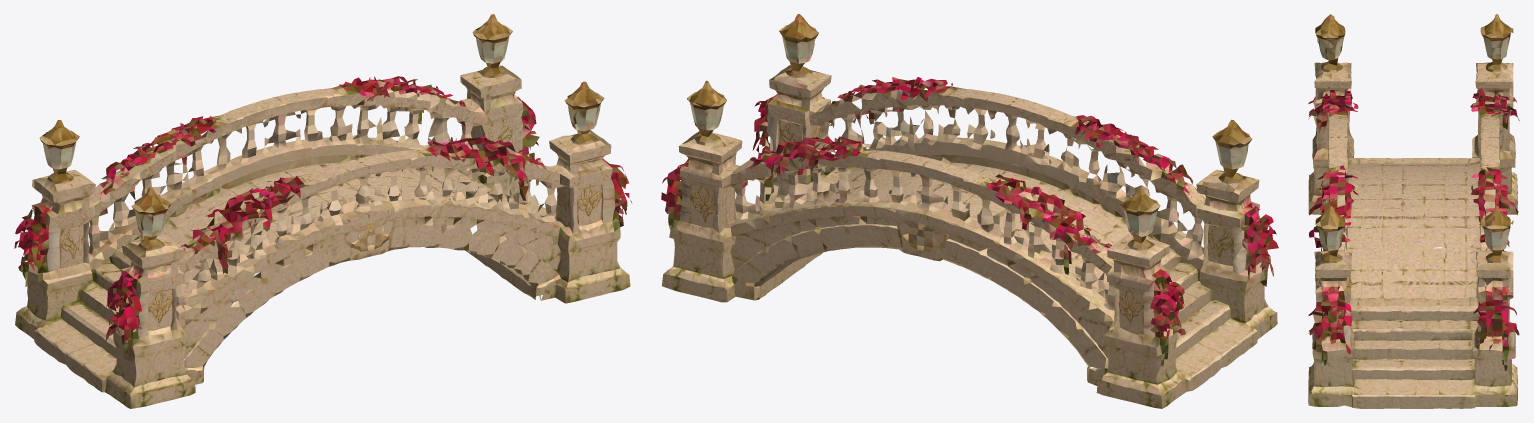
File: puente.glb
The picture shows the model from 3 angles, left to right: view 1: azimuth 30°, elevation 25°; view 2: azimuth 150°, elevation 25°; view 3: azimuth 270°, elevation 25°; orthographic projection. The views are drawn at different scales.
Visible parts, largest first — view 1: mesh_0; view 2: mesh_0; view 3: mesh_0.
Part boxes in pixels (left/top/right/bottom): mesh_0: left=14, top=14, right=632, bottom=408; mesh_0: left=661, top=14, right=1278, bottom=408; mesh_0: left=1308, top=14, right=1519, bottom=408.
Size of the model in its own units: 1.9 by 0.7187 by 0.7406.
1 material, 1 textured.
